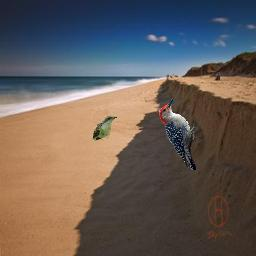Cuckoo: (92, 116, 117, 141)
Woodpecker: (157, 98, 196, 170)
